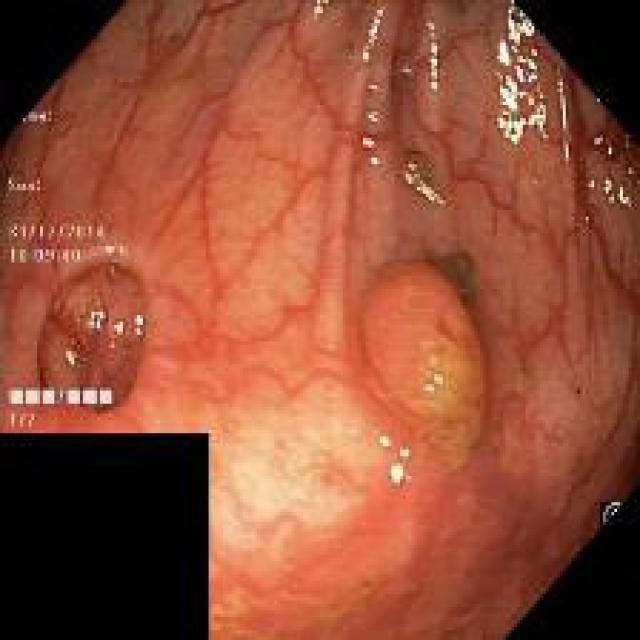Polyps: (364, 264, 486, 464)
